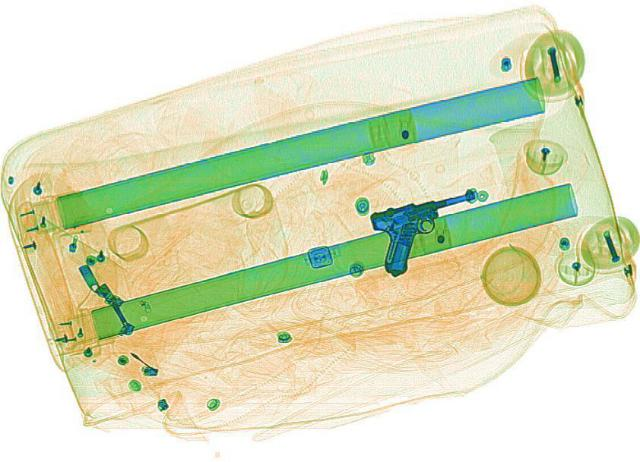Gun: (357, 186, 505, 276)
